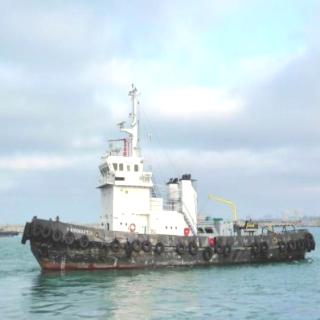Tug Boat: (24, 82, 308, 268)
